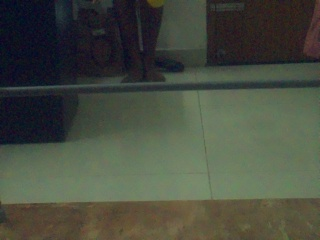ball: (147, 0, 163, 7)
